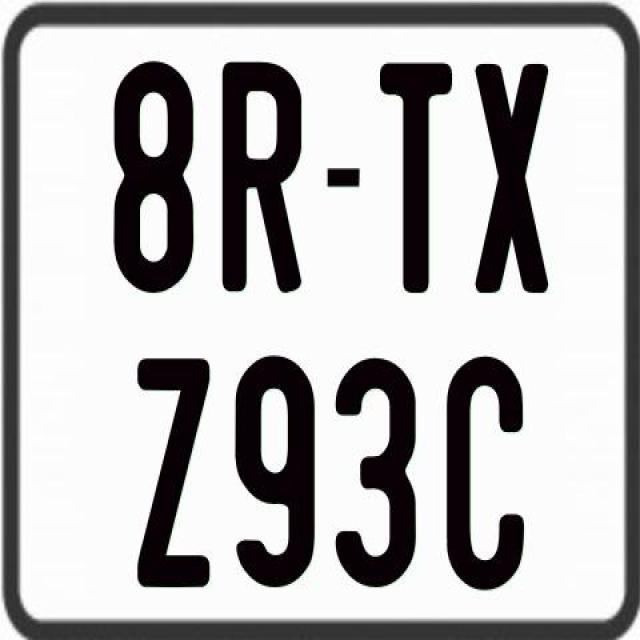3: (334, 359, 418, 588)
8: (112, 56, 194, 293)
9: (233, 355, 319, 587)
C: (447, 357, 529, 592)
R: (220, 61, 306, 291)
T: (378, 58, 454, 288)
X: (472, 64, 546, 302)
Z: (135, 354, 211, 584)
